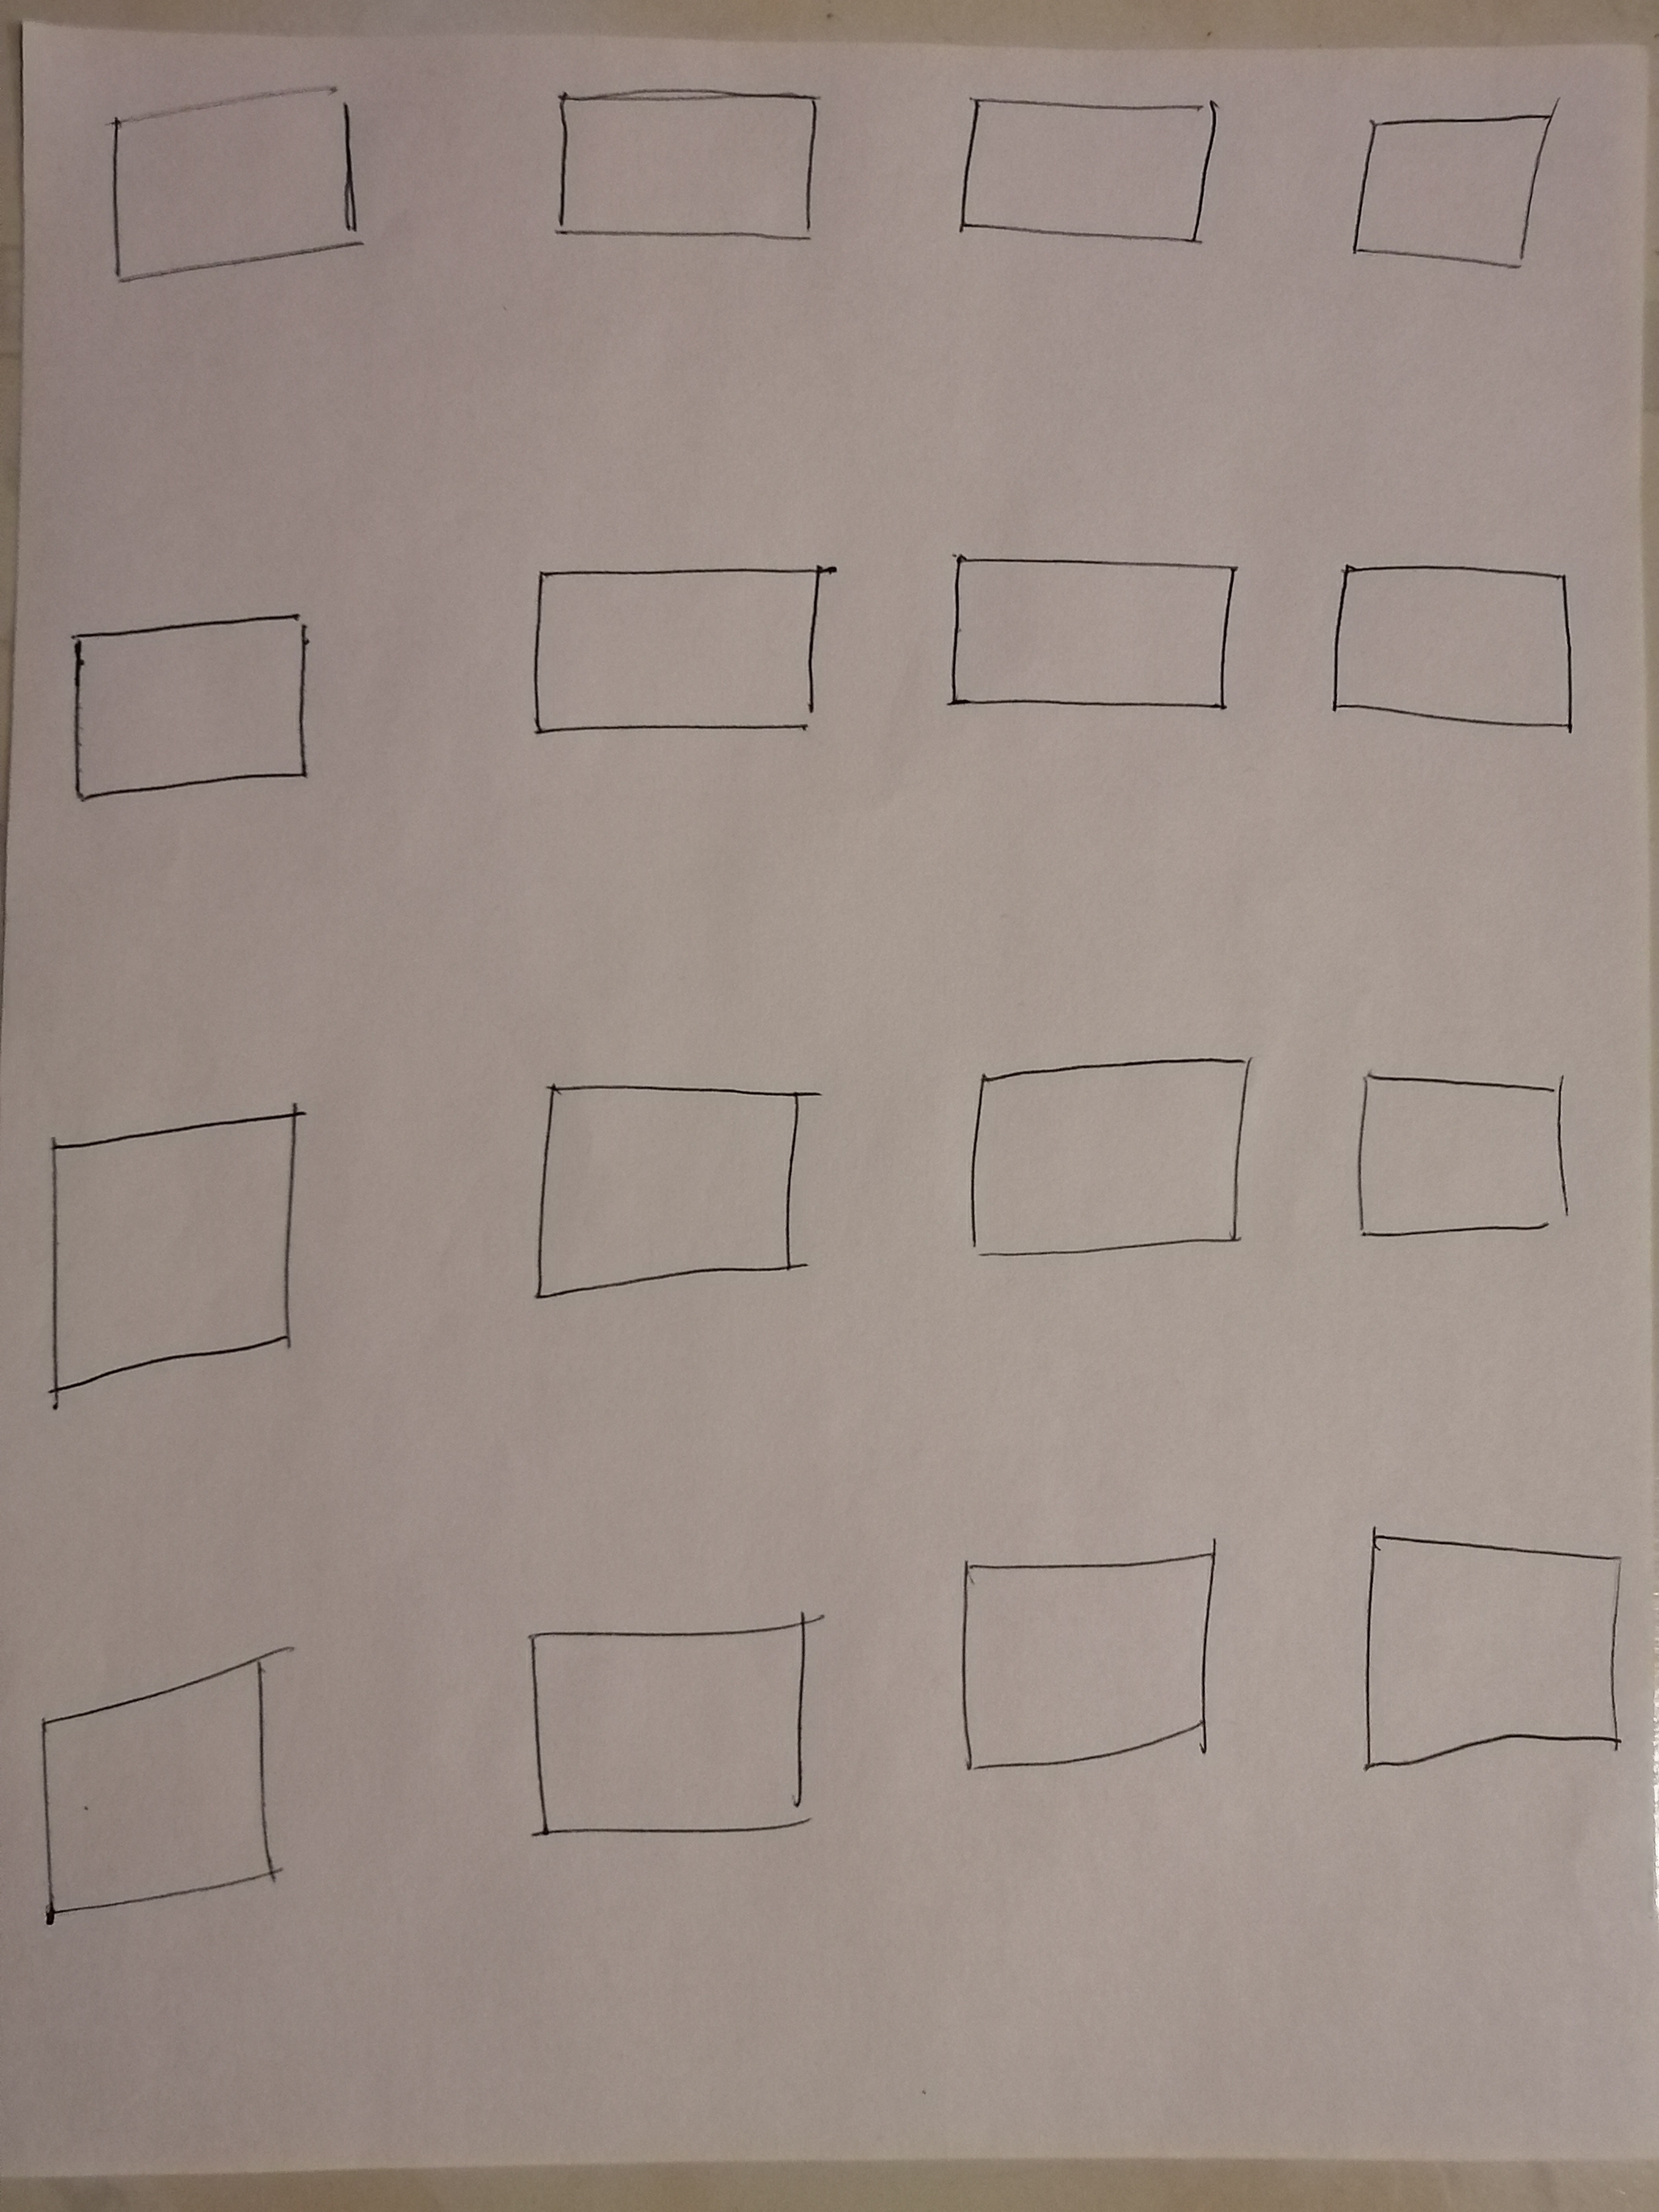process: (21, 1078, 362, 1460), (1324, 1470, 1652, 1838), (471, 1585, 863, 1881), (934, 1021, 1284, 1331), (24, 1623, 328, 1977), (913, 512, 1274, 796), (1305, 495, 1628, 810), (518, 1052, 852, 1338), (927, 1524, 1263, 1806), (511, 521, 859, 791), (28, 596, 371, 838), (1331, 1031, 1614, 1320), (68, 63, 403, 303), (507, 56, 852, 270), (938, 56, 1249, 273), (1338, 80, 1584, 303)
